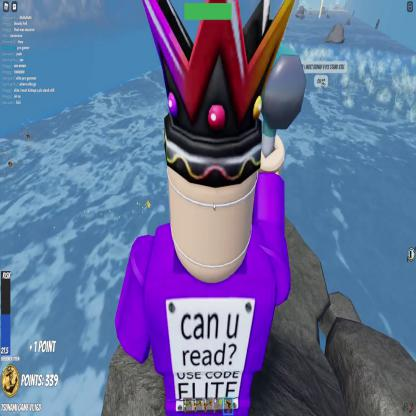Roblox-Avatar: (116, 1, 293, 416)
